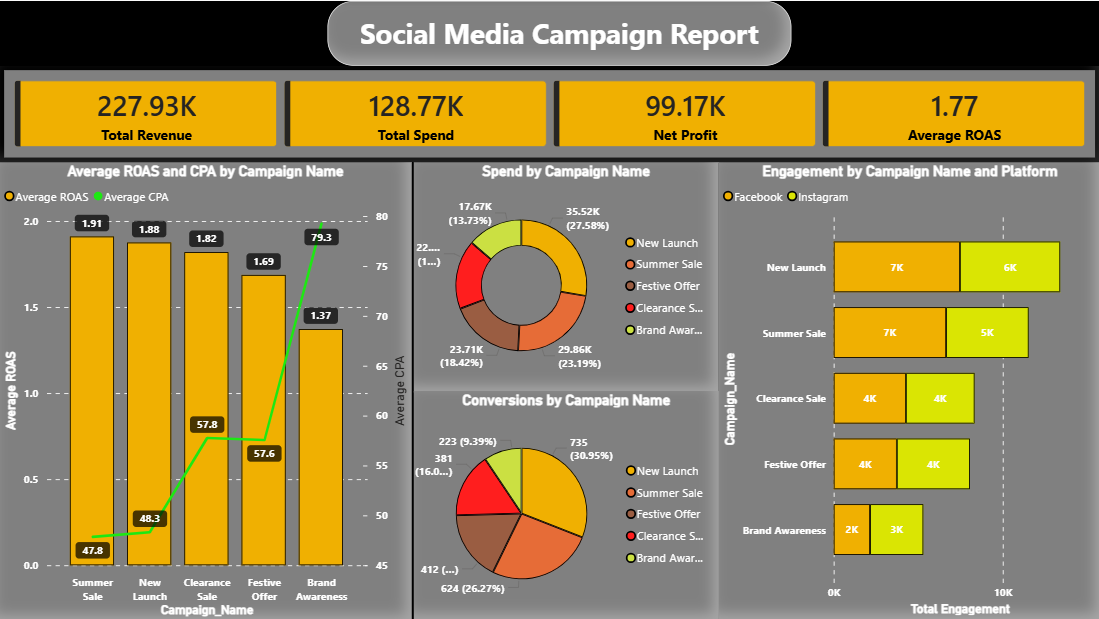

The dashboard page shown, as its layout file describes it:
{"tool":"powerbi","page":{"name":"Page 1","canvas":[1280,720],"ordinal":0},"visuals":[{"type":"textbox","box":[380.7,0,539,75.6],"z":0},{"type":"cardVisual","fields":{"Data":["Social_Media_Campaign_Data.Total Revenue","Social_Media_Campaign_Data.Total Spend","Social_Media_Campaign_Data.Net Profit","Social_Media_Campaign_Data.Average ROAS"]},"box":[0,75.6,1280,111.9],"z":1},{"type":"lineClusteredColumnComboChart","title":"Average ROAS and CPA by Campaign Name","fields":{"Category":["Social_Media_Campaign_Data.Campaign_Name"],"Y":["Social_Media_Campaign_Data.Average ROAS"],"Y2":["Social_Media_Campaign_Data.Average CPA"]},"box":[0,187.4,478,533.2],"z":3},{"type":"donutChart","title":" Spend by Campaign Name","fields":{"Y":["Social_Media_Campaign_Data.Total Spend"],"Category":["Social_Media_Campaign_Data.Campaign_Name"]},"box":[480.9,187.4,354.5,267.3],"z":4},{"type":"pieChart","title":" Conversions by Campaign Name","fields":{"Y":["Social_Media_Campaign_Data.Total Conversions"],"Category":["Social_Media_Campaign_Data.Campaign_Name"]},"box":[481,454,355,266],"z":5},{"type":"barChart","title":" Engagement by Campaign Name and Platform","fields":{"Y":["Social_Media_Campaign_Data.Total Engagement"],"Category":["Social_Media_Campaign_Data.Campaign_Name"],"Series":["Social_Media_Campaign_Data.Platform"]},"box":[835.4,187.4,444.6,531.8],"z":6}]}

Visuals, with their boxes in screenshot pixels (x1, y1, x2, y2), scaled from the page's 1280x720 canvas onto the 1099x619 screenshot:
textbox: bbox=[327, 0, 790, 65]
cardVisual - Social_Media_Campaign_Data.Total Revenue x Social_Media_Campaign_Data.Total Spend: bbox=[0, 65, 1098, 161]
"Average ROAS and CPA by Campaign Name" lineClusteredColumnComboChart: bbox=[0, 161, 410, 618]
" Spend by Campaign Name" donutChart: bbox=[413, 161, 717, 391]
" Conversions by Campaign Name" pieChart: bbox=[413, 390, 718, 618]
" Engagement by Campaign Name and Platform" barChart: bbox=[717, 161, 1098, 618]
